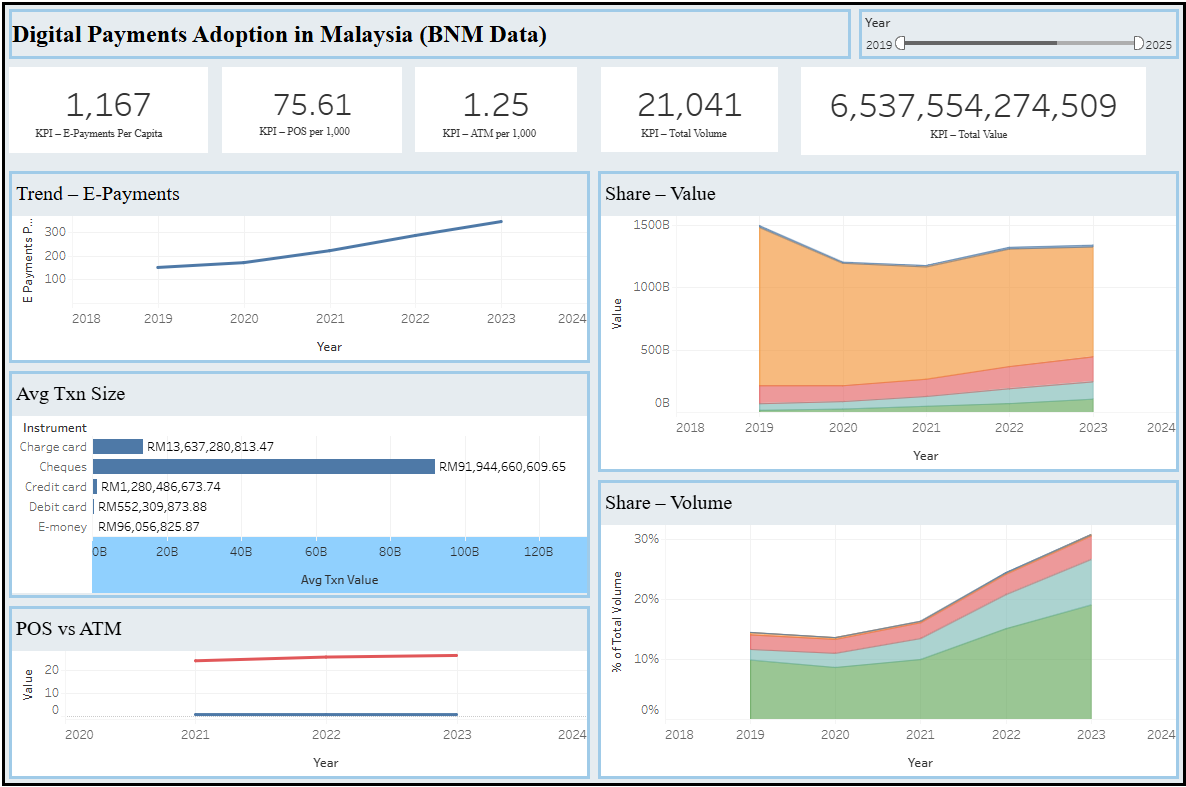

This screenshot's page, from the dashboard's own definition file:
{"tool":"tableau","page":{"name":"Dashboard 1","canvas":[1200,800],"ordinal":0},"visuals":[{"type":"text","box":[11,11,849.6,57.5]},{"type":"filter","title":"Sheet 8 (2)","param":"[federated.1jfyge80dwgli41d8ijzn0to7waf].[none:year:qk]","box":[860.6,11,328.4,57.5]},{"type":"worksheet","title":"Sheet 2","mark":"Text","box":[11,68.5,213,104.2]},{"type":"worksheet","title":"Sheet 3","mark":"Text","box":[224,68.5,193,104.2]},{"type":"worksheet","title":"Sheet 3 (2)","mark":"Text","box":[417,68.5,186,104.2]},{"type":"worksheet","title":"Sheet 5","mark":"Text","box":[603,68.5,200,104.2]},{"type":"worksheet","title":"Sheet 5 (2)","mark":"Text","box":[803,68.5,386,104.2]},{"type":"worksheet","title":"Sheet 7","mark":"Line","rows":["e_payments_per_capita"],"cols":["year"],"box":[11,172.7,588.9,200]},{"type":"worksheet","title":"Sheet 8 (2)","mark":"Area","rows":["value"],"cols":["year"],"box":[600,172.7,589,309.6]},{"type":"worksheet","title":"Sheet 10","mark":"Bar","rows":["instrument"],"cols":["avg_txn_value"],"box":[11,372.7,588.9,235]},{"type":"worksheet","title":"Sheet 8","mark":"Area","rows":["volume"],"cols":["year"],"box":[600,482.3,589,306.7]},{"type":"worksheet","title":"Sheet 11","mark":"Line","cols":["year"],"box":[11,607.7,588.9,181.3]}]}

Visuals, with their boxes in screenshot pixels (x1, y1, x2, y2), scaled from the page's 1200x800 canvas onto the 1186x787 screenshot:
text: box=[11, 11, 851, 67]
"Sheet 8 (2)" filter: box=[851, 11, 1175, 67]
"Sheet 2" worksheet (Text marks): box=[11, 67, 221, 170]
"Sheet 3" worksheet (Text marks): box=[221, 67, 412, 170]
"Sheet 3 (2)" worksheet (Text marks): box=[412, 67, 596, 170]
"Sheet 5" worksheet (Text marks): box=[596, 67, 794, 170]
"Sheet 5 (2)" worksheet (Text marks): box=[794, 67, 1175, 170]
"Sheet 7" worksheet (Line marks): box=[11, 170, 593, 367]
"Sheet 8 (2)" worksheet (Area marks): box=[593, 170, 1175, 474]
"Sheet 10" worksheet (Bar marks): box=[11, 367, 593, 598]
"Sheet 8" worksheet (Area marks): box=[593, 474, 1175, 776]
"Sheet 11" worksheet (Line marks): box=[11, 598, 593, 776]
